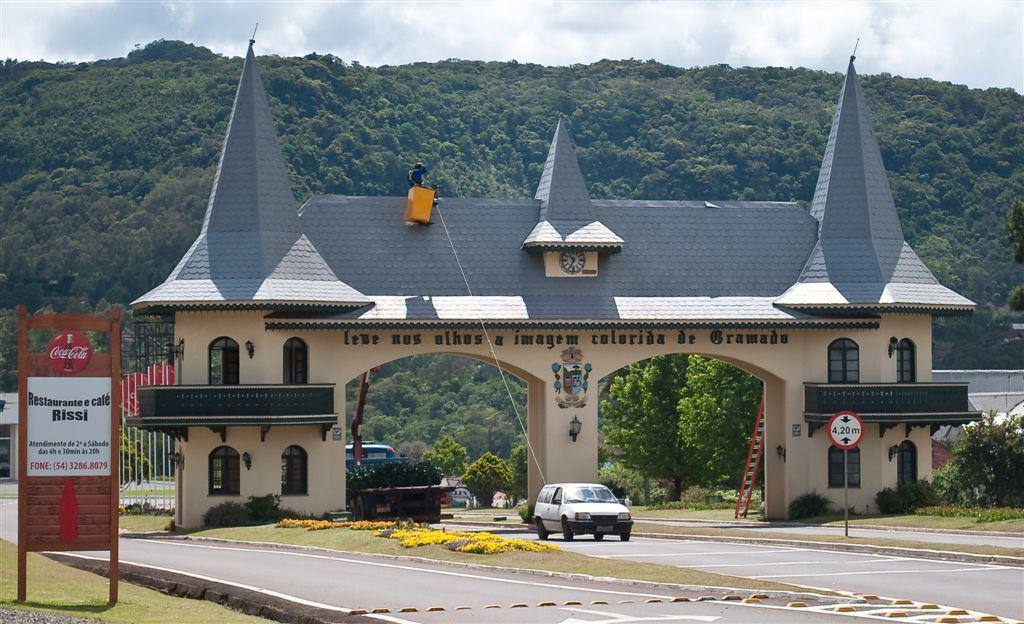Car: (529, 483, 634, 540)
